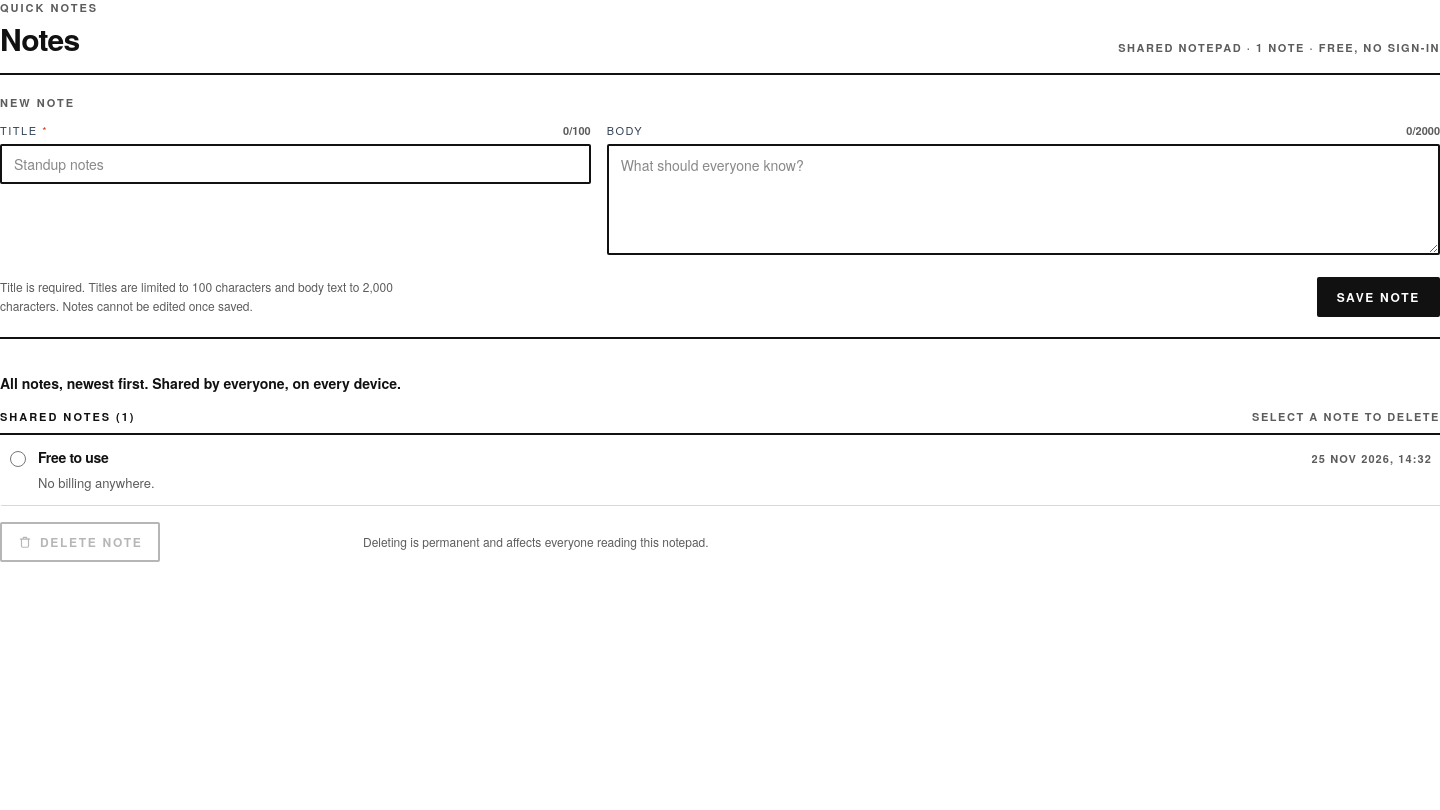
Test: Notes screen › [AC-021] shows no payment or subscription prompt while creating, listing or deleting notes
Expected: the list with test id "shared-notes-3-list" shows "Free to use", [38,447,108,467]
Create a note: no payment step appears before or after it is saved.
In the field with test id "title-required-max-100-characters-input": x=295, y=164 [0,144,591,184], type "Another free note"
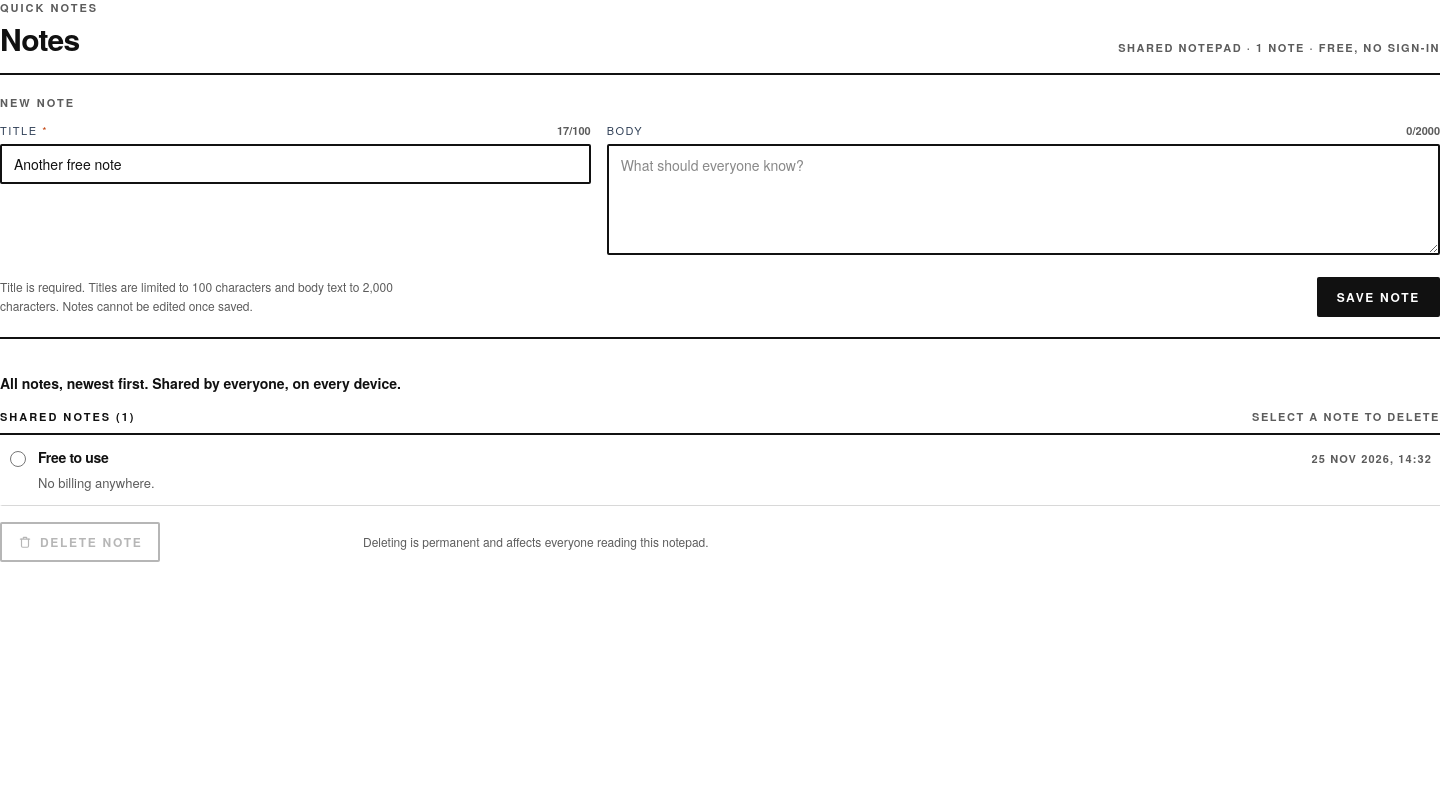
Click the button with test id "save-note-btn": x=1378, y=296 [1317,276,1439,316]
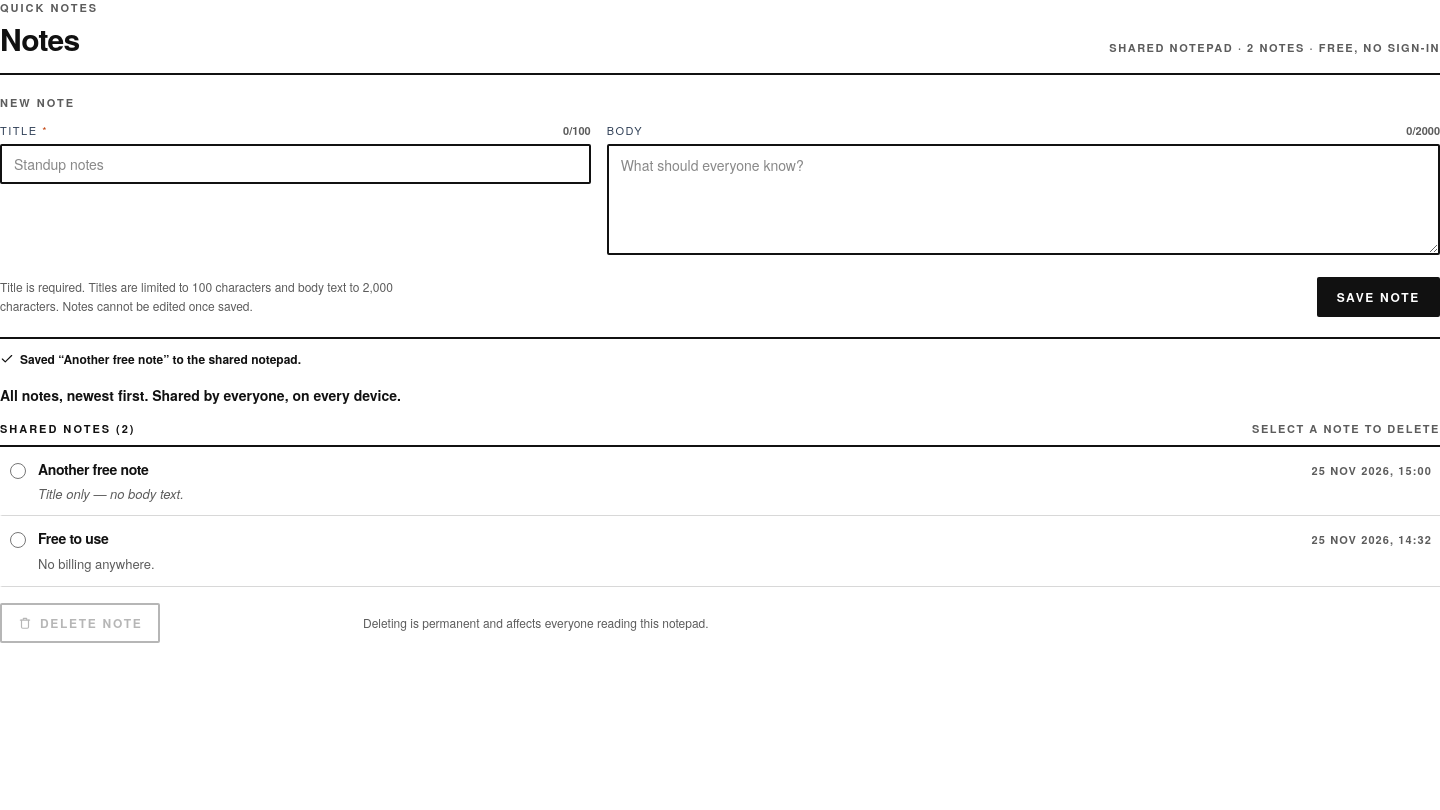
Result: the text "Saved “Another free note” to the shared notepad." is shown at [0,350,301,366]
Delete a note: no payment step appears before, during or after the confirmation.
Click the radio button labelled "Free to use": x=18, y=540 [10,532,26,548]
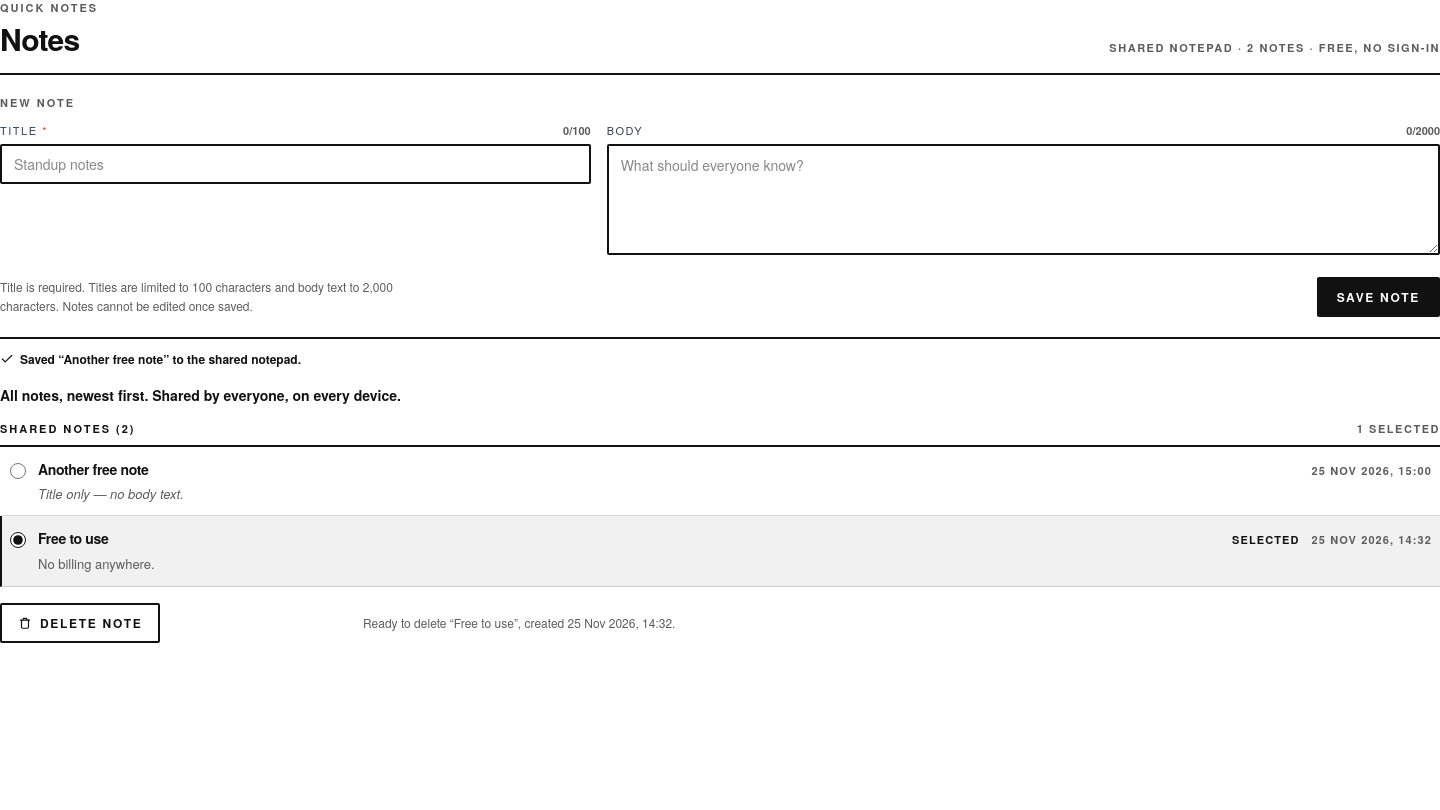
Click the button with test id "delete-note-btn": x=80, y=623 [0,603,160,643]
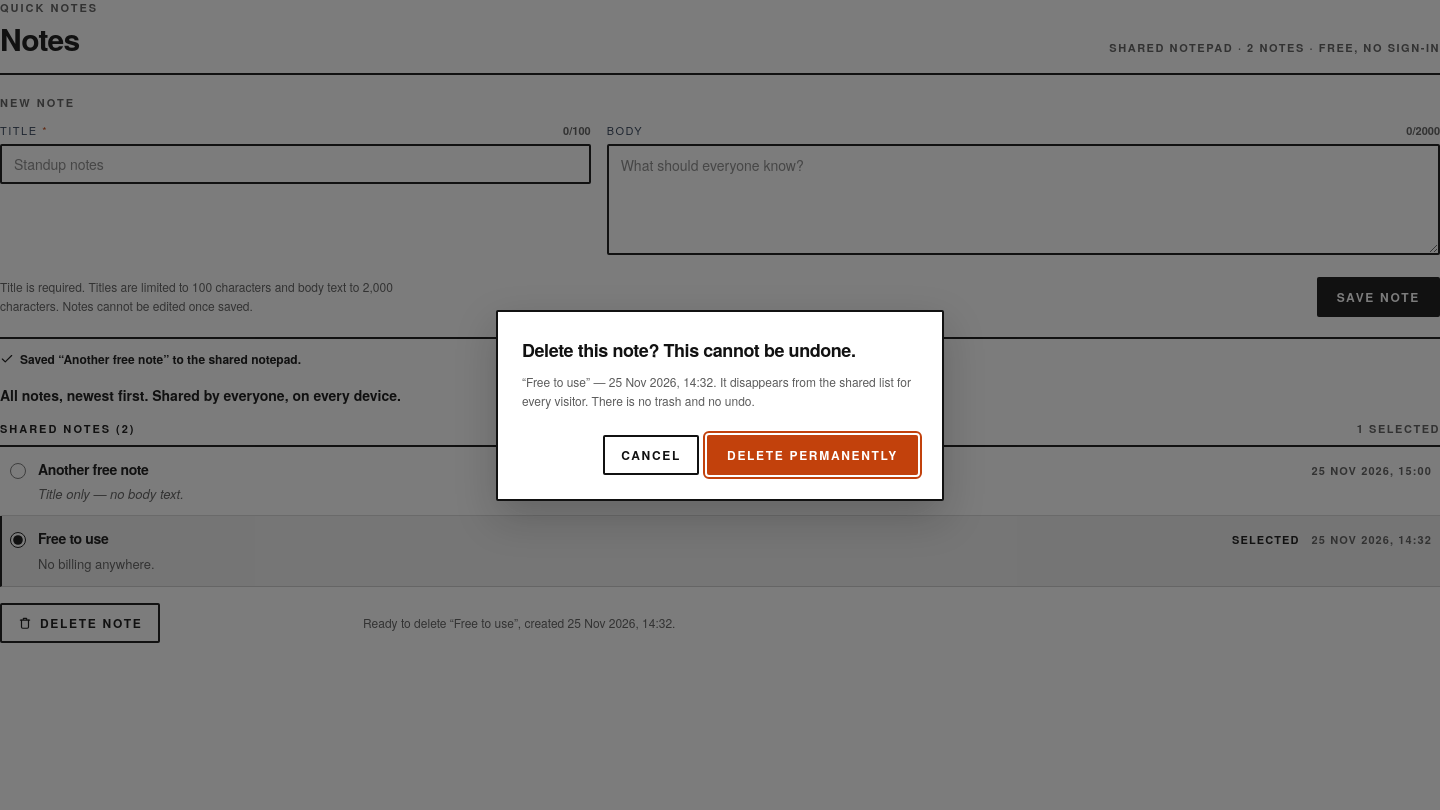
Result: the element with test id "delete-this-note-this-cannot-be-un-modal" is shown
Click the button "Delete permanently": x=813, y=454 [707,434,918,474]
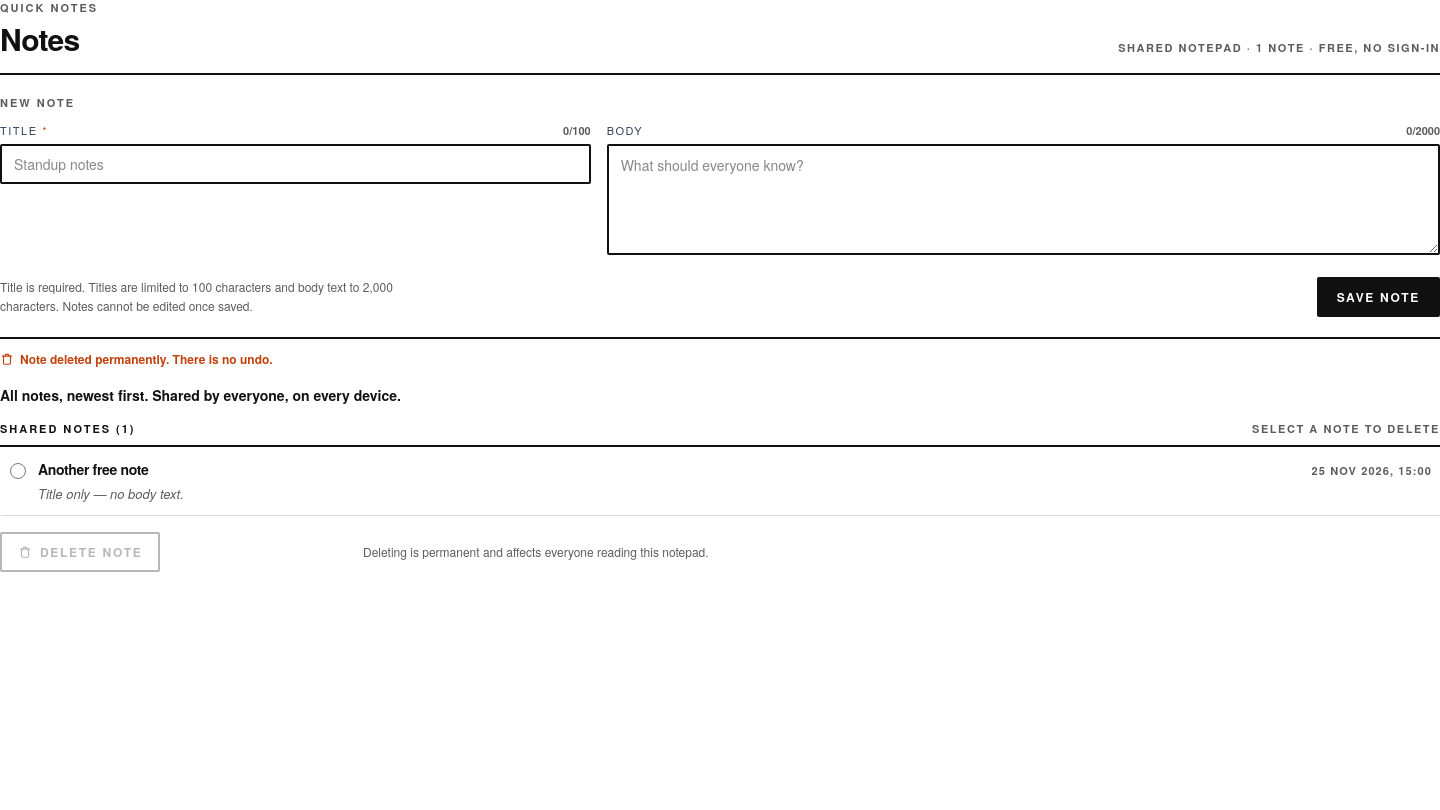
Result: the element with test id "delete-this-note-this-cannot-be-un-modal" is gone
